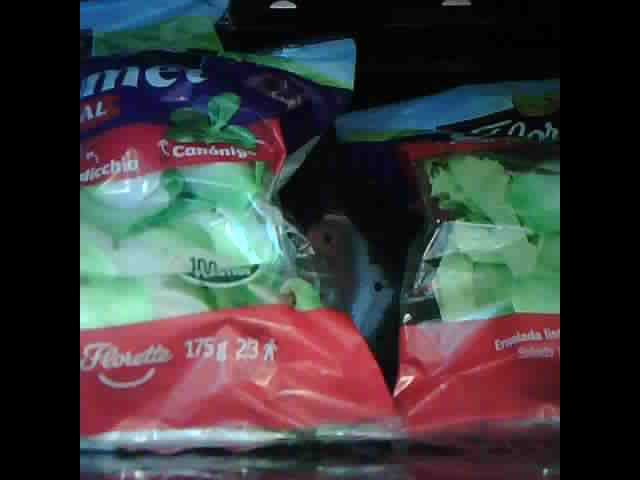florette: (82, 1, 408, 452), (334, 68, 559, 443)
